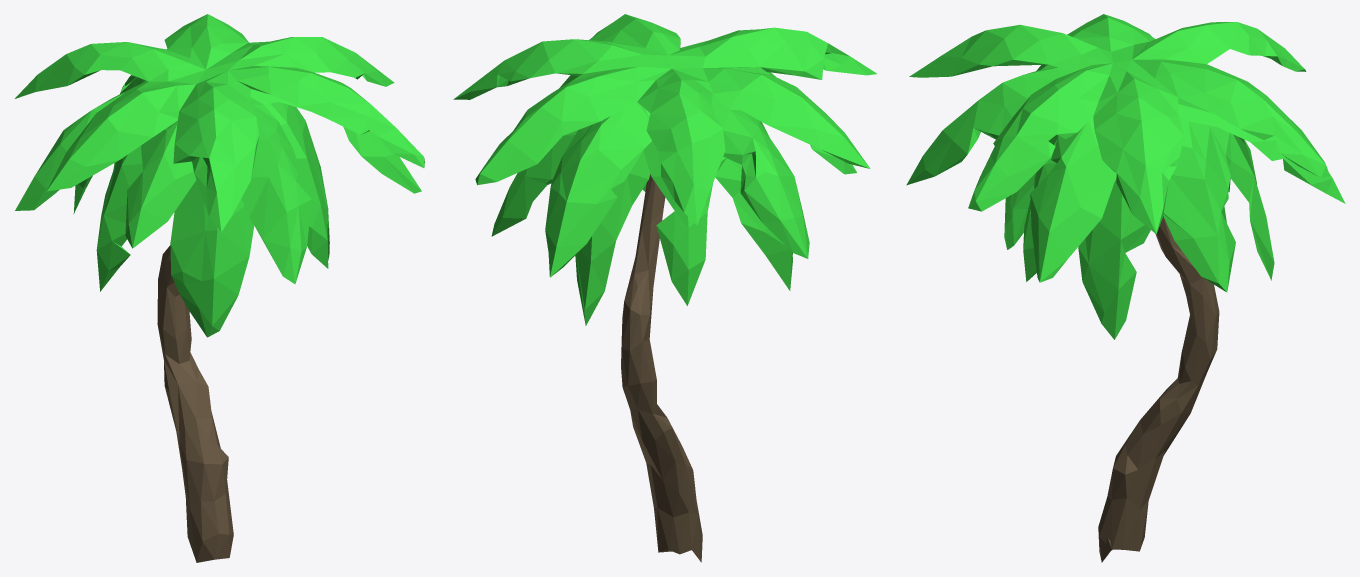
Rendered from Tree_3-col.glb.
3 views of the same model, side by side, from view 1: azimuth 30°, elevation 25°; view 2: azimuth 150°, elevation 25°; view 3: azimuth 270°, elevation 25° (orthographic). The views are drawn at different scales.
Visible parts, largest first — view 1: geometry_0.003; view 2: geometry_0.003; view 3: geometry_0.003.
Part boxes in pixels (x1=…): geometry_0.003: x1=15, y1=14, x2=424, y2=562; geometry_0.003: x1=453, y1=14, x2=876, y2=562; geometry_0.003: x1=906, y1=14, x2=1345, y2=562.
Bounding box in the file's own units: 1.59 × 2 × 1.55.
